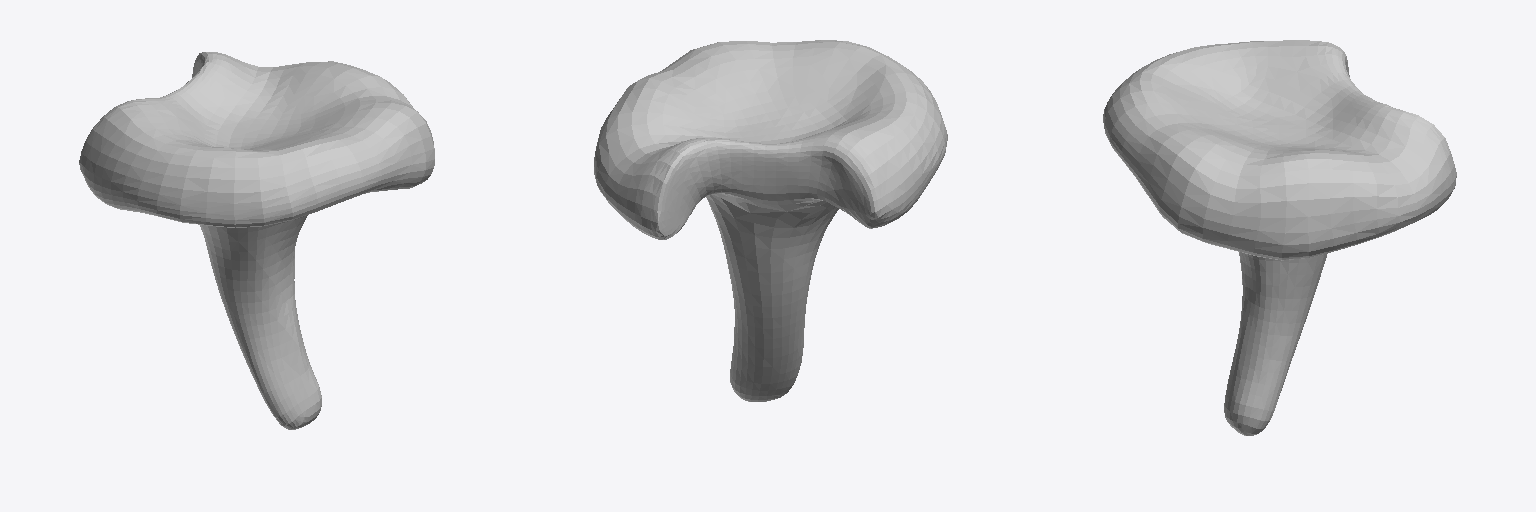
File: bitten_chant.obj
3 renders of one model, left to right at view 1: azimuth 30°, elevation 25°; view 2: azimuth 150°, elevation 25°; view 3: azimuth 270°, elevation 25°, orthographic.
Visible parts, largest first — view 1: bittenchant1_Group60373 group1; view 2: bittenchant1_Group60373 group1; view 3: bittenchant1_Group60373 group1.
Part boxes in pixels (x1,y1,x2,y2): bittenchant1_Group60373 group1: (79,52,434,429); bittenchant1_Group60373 group1: (594,40,947,401); bittenchant1_Group60373 group1: (1103,40,1456,435).
Bounding box in the file's own units: 0.2655 × 0.277 × 0.2707.